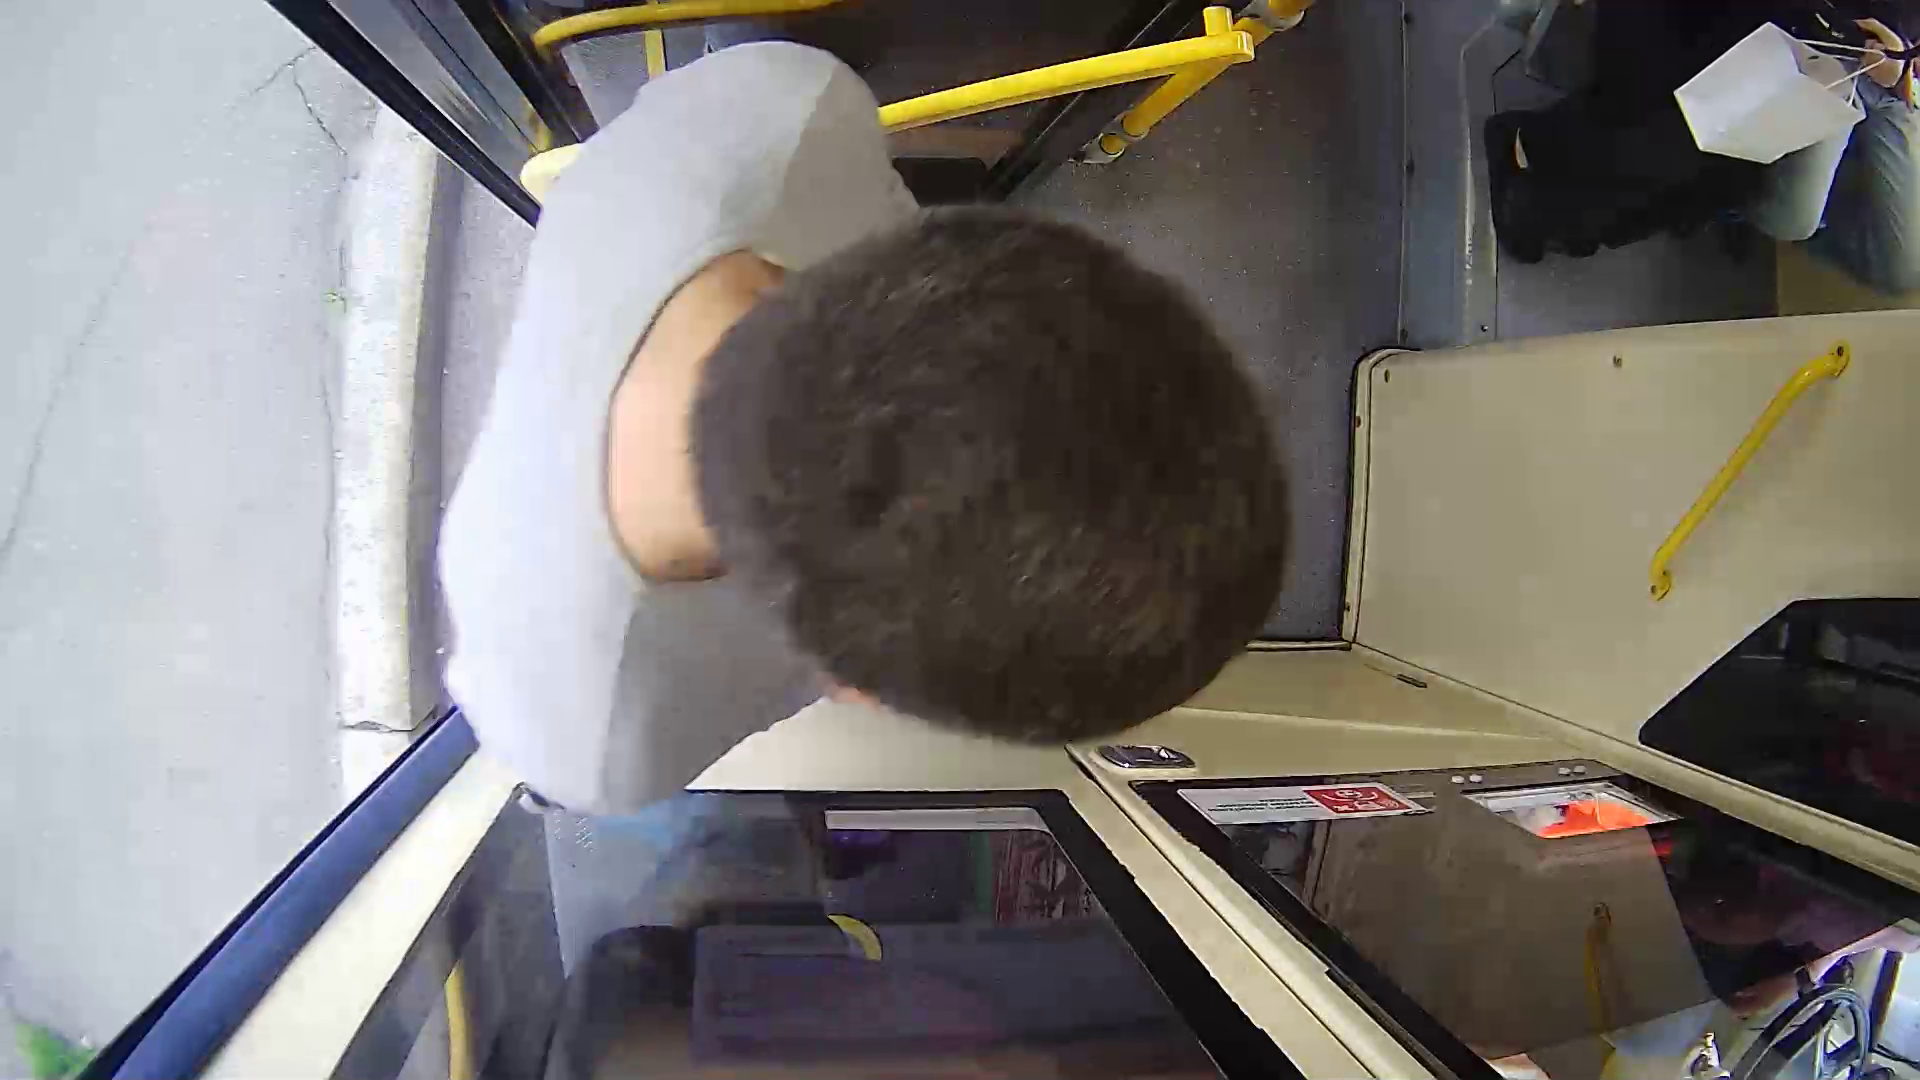person: (410, 44, 1306, 919)
